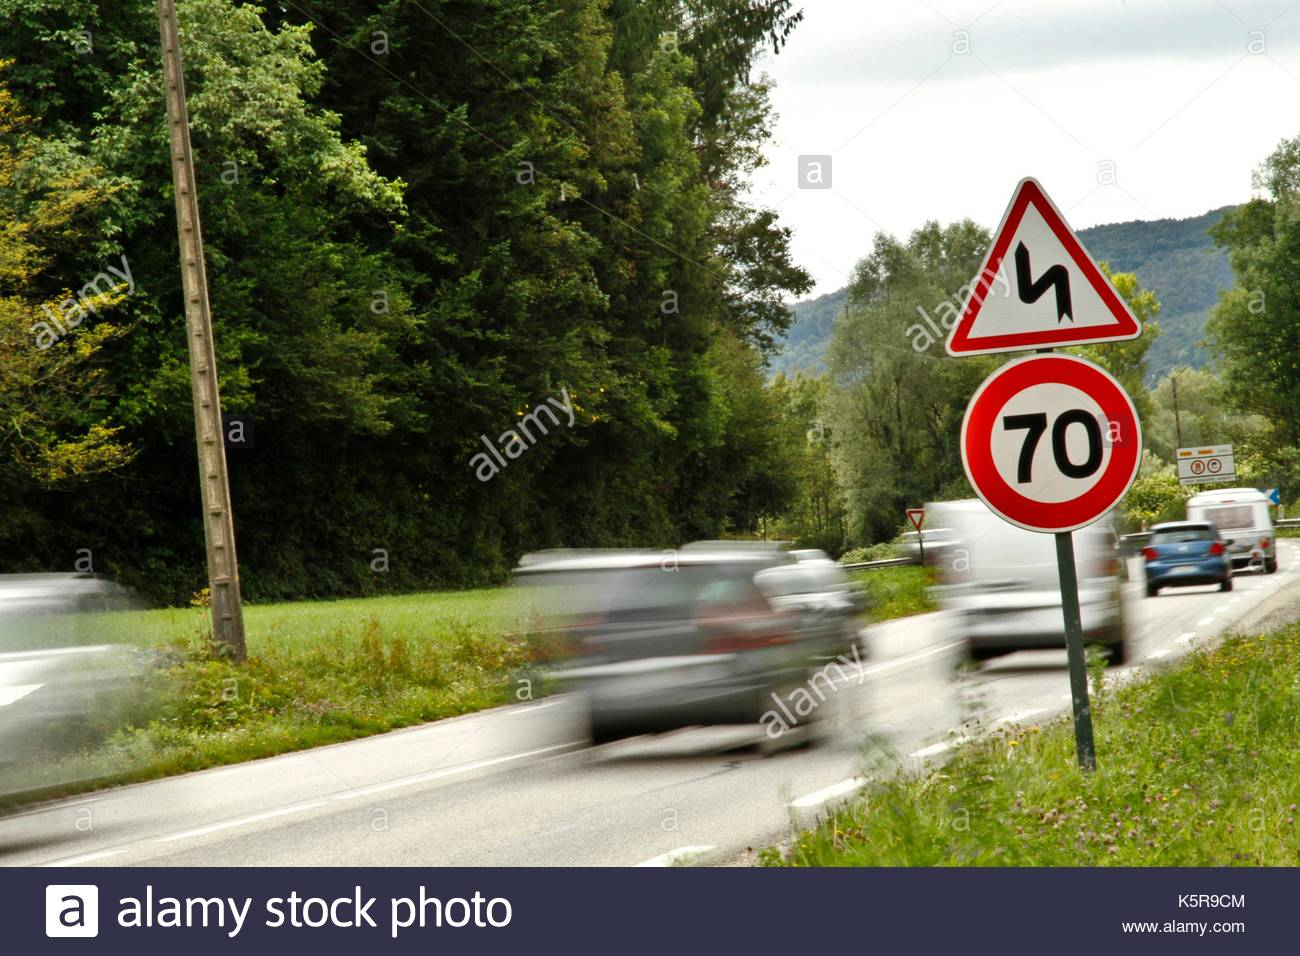Speed_limit_70km: (957, 361, 1146, 529)
